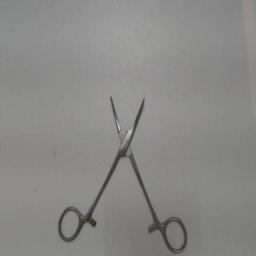Crile Artery Forceps: (54, 87, 190, 255)
